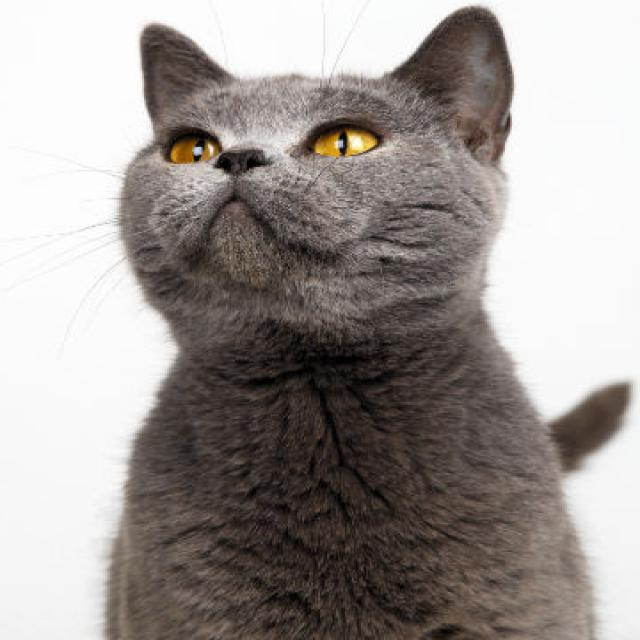British Shorthair: (96, 0, 636, 640)
